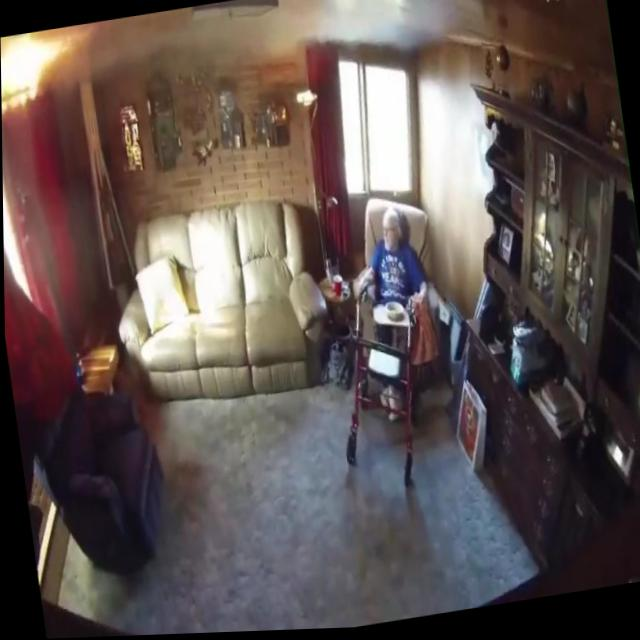fire: (0, 30, 72, 123)
